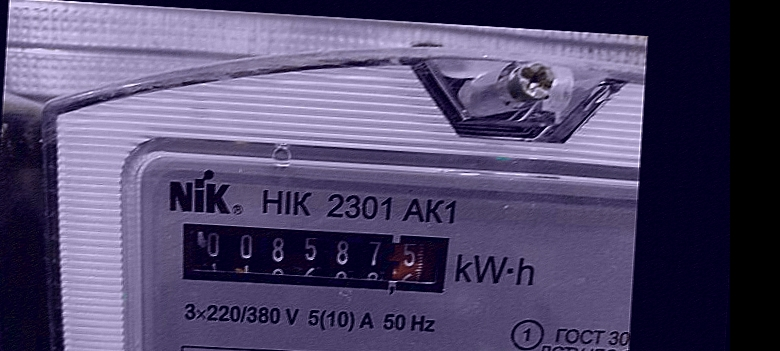0: (203, 228, 222, 258), (237, 231, 256, 260)
5: (401, 240, 419, 270), (301, 234, 320, 262)
7: (365, 236, 384, 267)
8: (333, 235, 352, 266), (269, 234, 287, 262)
screen: (161, 205, 468, 306)
